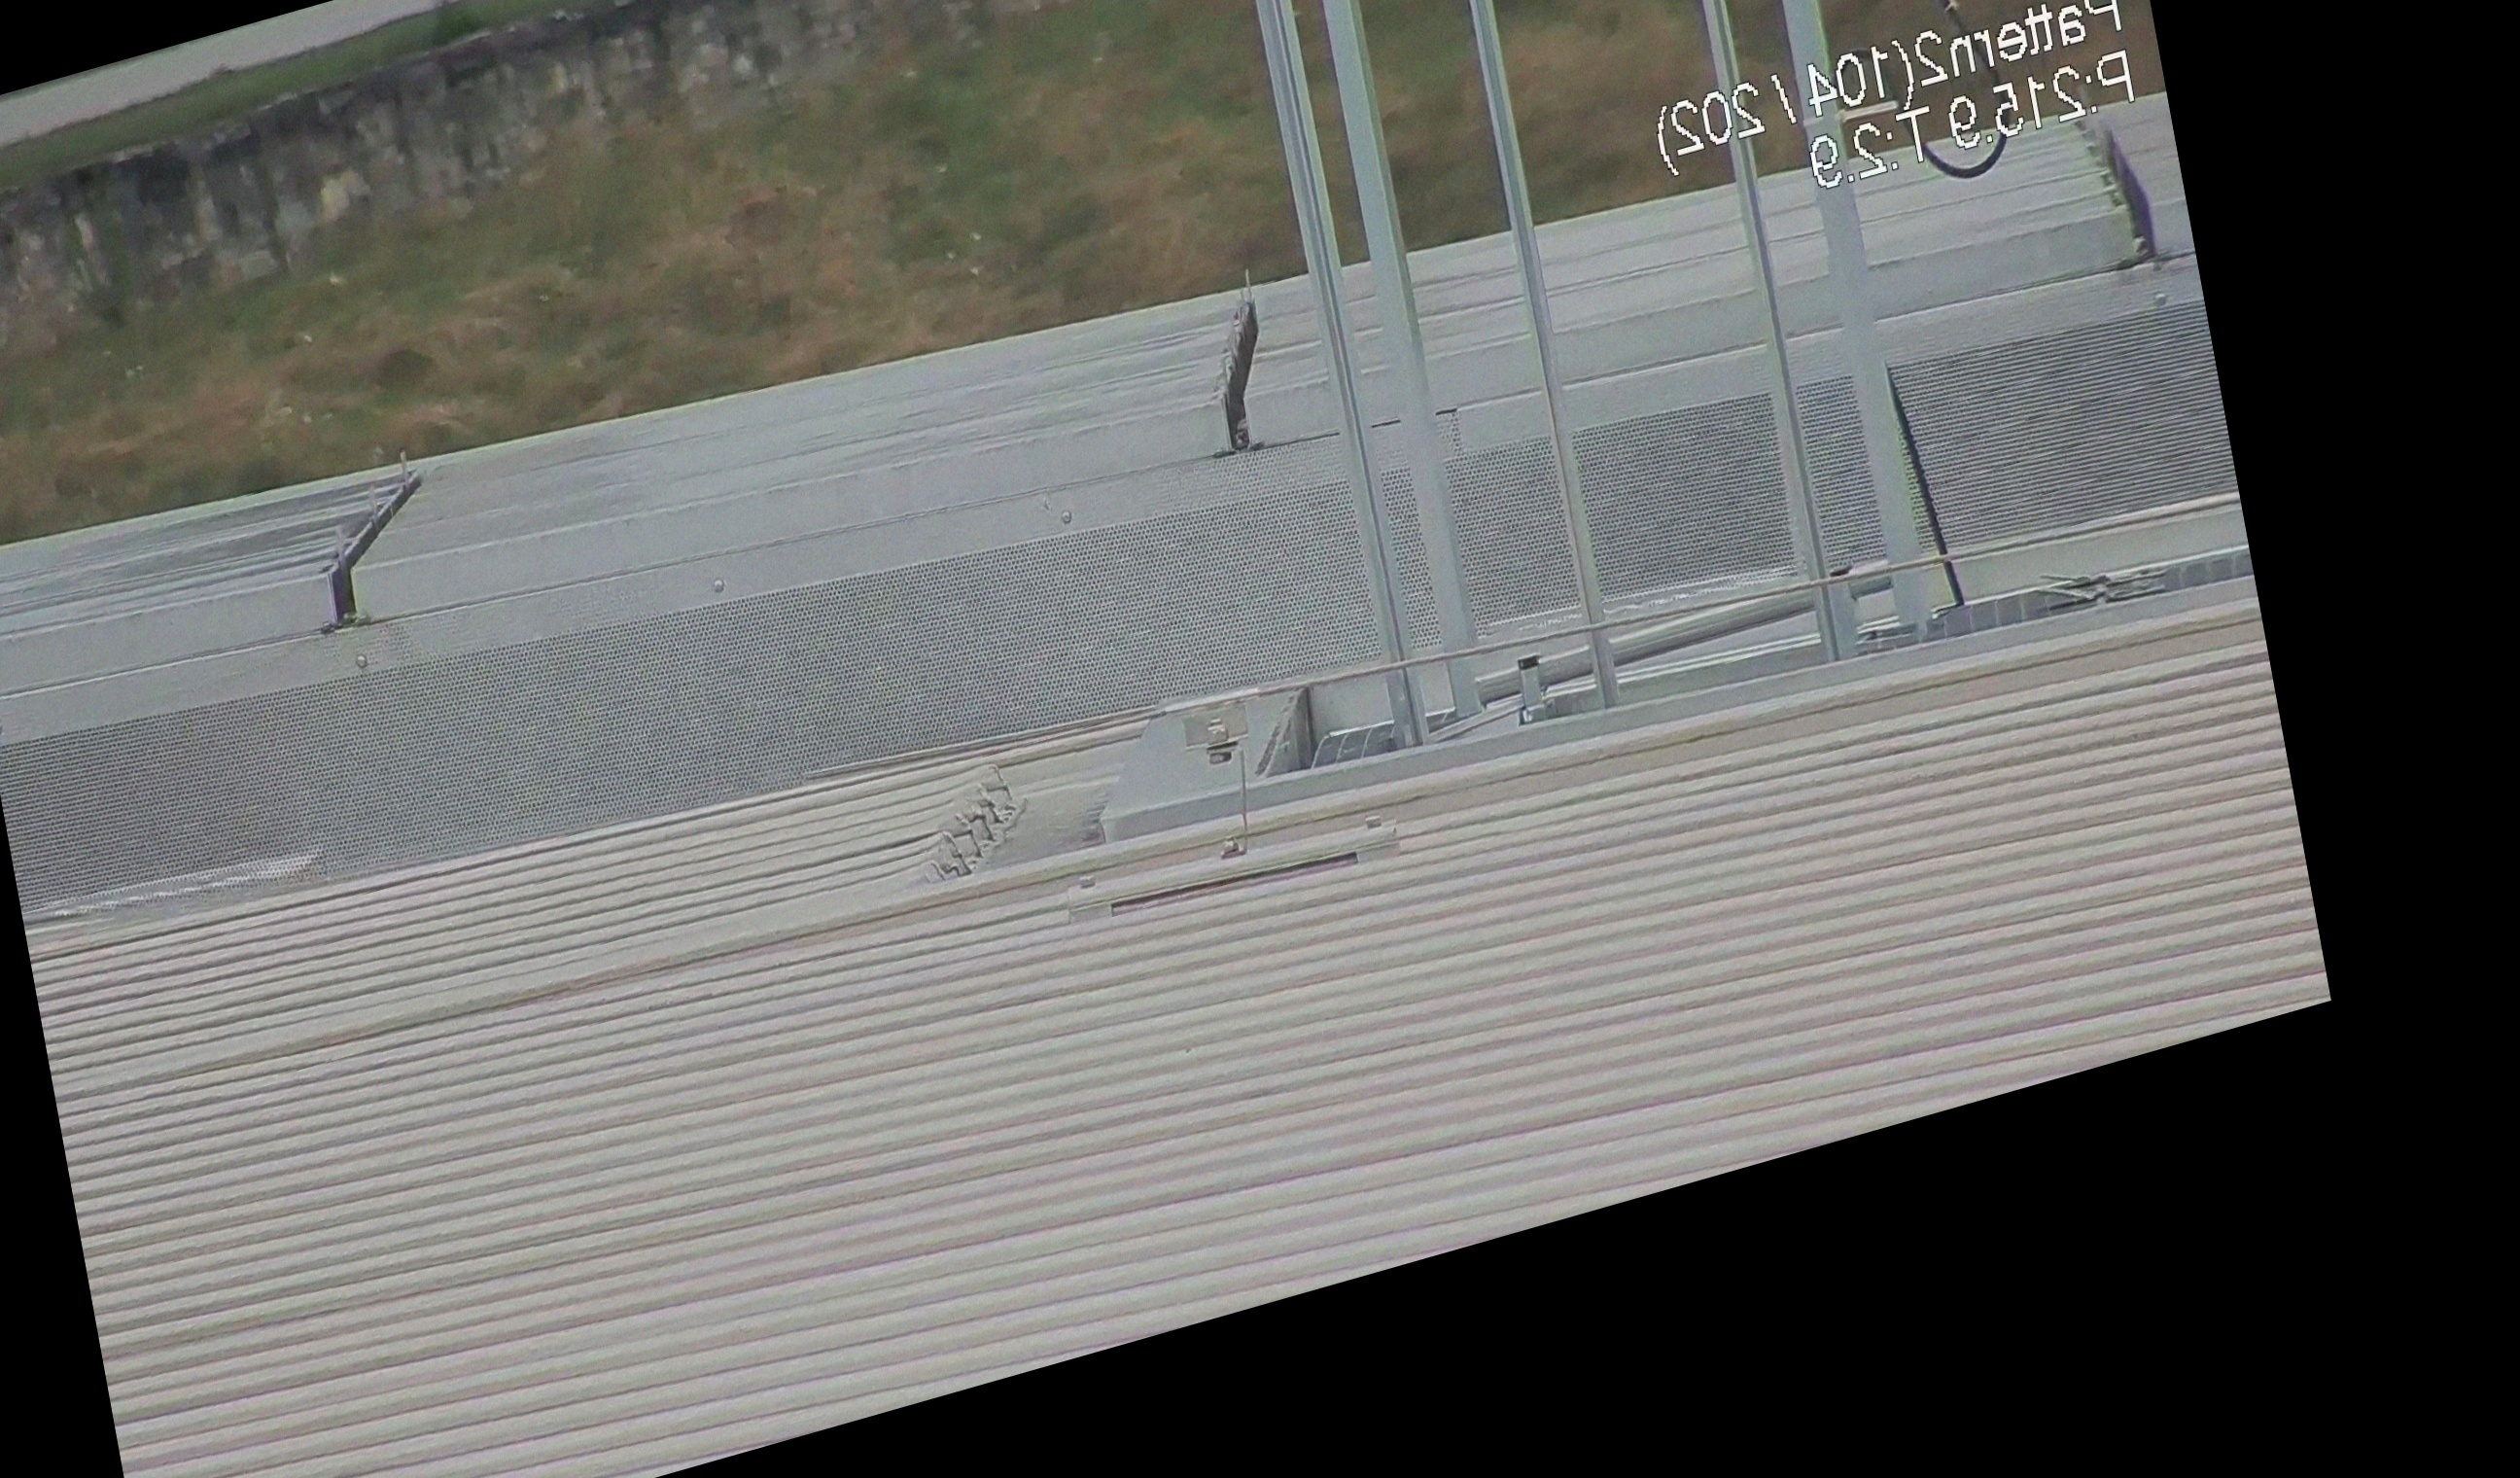Other: (1182, 255, 1298, 457)
